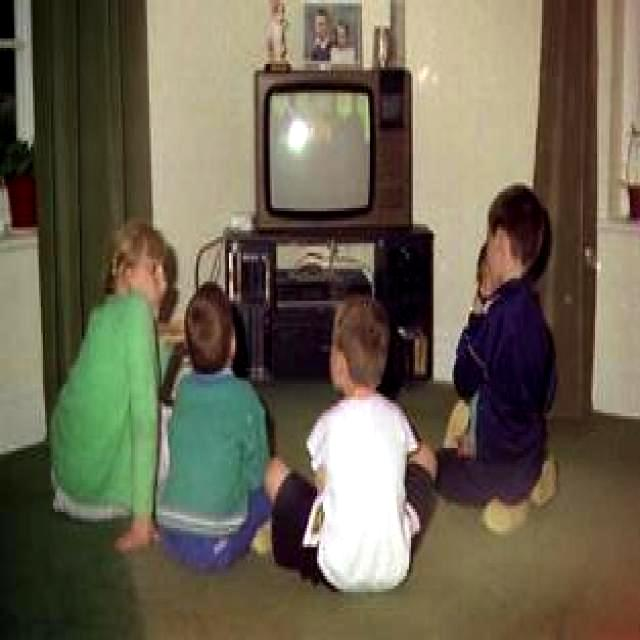no_head_wear: (334, 293, 390, 389), (488, 184, 546, 274), (184, 281, 233, 371), (109, 222, 166, 281)
person: (265, 290, 439, 594), (437, 180, 559, 535), (48, 216, 169, 556), (157, 279, 272, 573)
